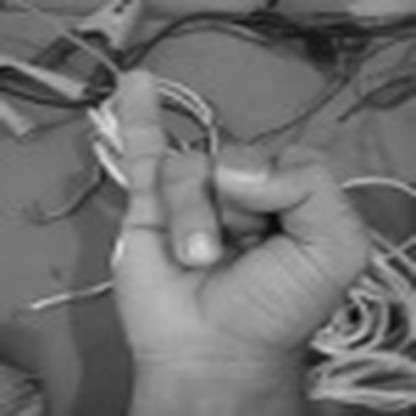i: (105, 61, 376, 367)
